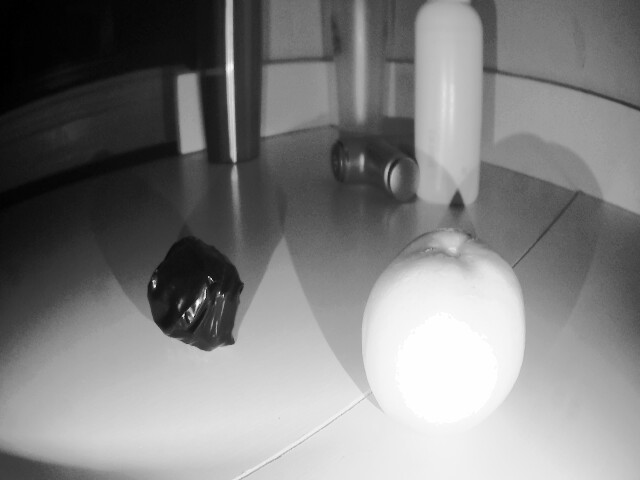silver: (144, 236, 277, 358)
